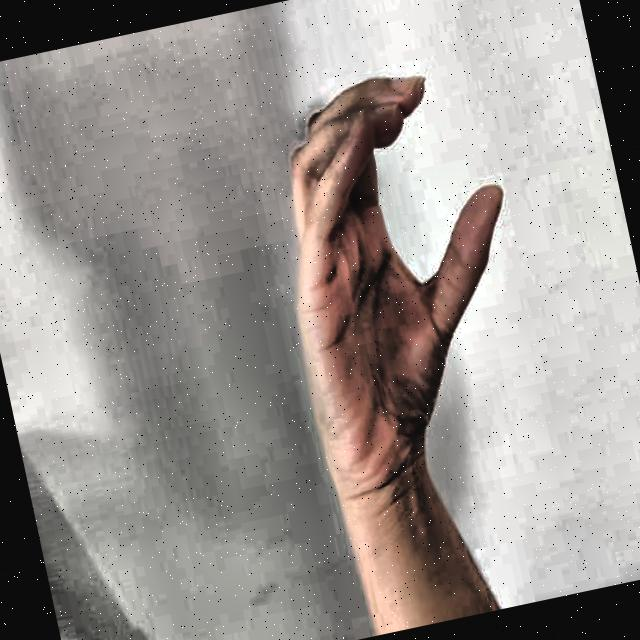A: (210, 24, 582, 544)
